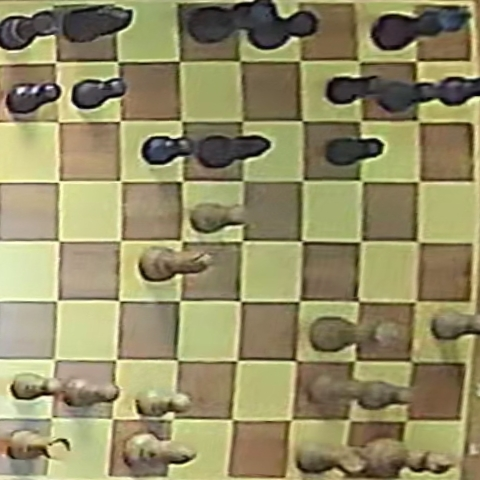black-bishop: (195, 134, 270, 168)
black-king: (373, 5, 470, 51)
black-knight: (58, 4, 132, 44)
black-pawn: (382, 79, 437, 113), (5, 81, 60, 114), (437, 71, 480, 112), (72, 78, 127, 110), (327, 75, 383, 106), (325, 137, 384, 166), (142, 136, 194, 166)
black-queen: (185, 1, 279, 43)
black-rook: (244, 11, 319, 51), (0, 11, 60, 51)
white-bishop: (124, 432, 195, 467), (140, 246, 211, 281)
white-king: (362, 437, 455, 475)
white-pawn: (308, 374, 367, 405), (190, 202, 249, 232), (61, 378, 120, 407), (136, 387, 193, 416), (357, 381, 412, 408), (433, 309, 479, 339), (11, 373, 62, 400)
white-queen: (308, 315, 400, 353)
white-rook: (298, 440, 366, 473), (2, 431, 70, 461)
